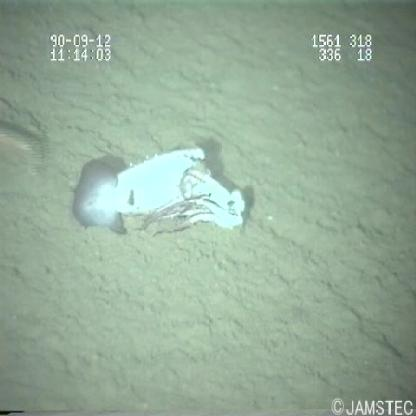Bio: (69, 142, 253, 247)
